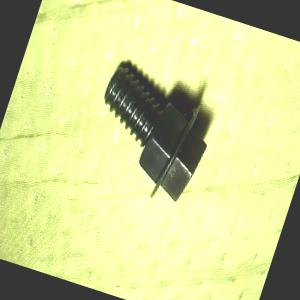parafuso: (76, 61, 222, 210)
